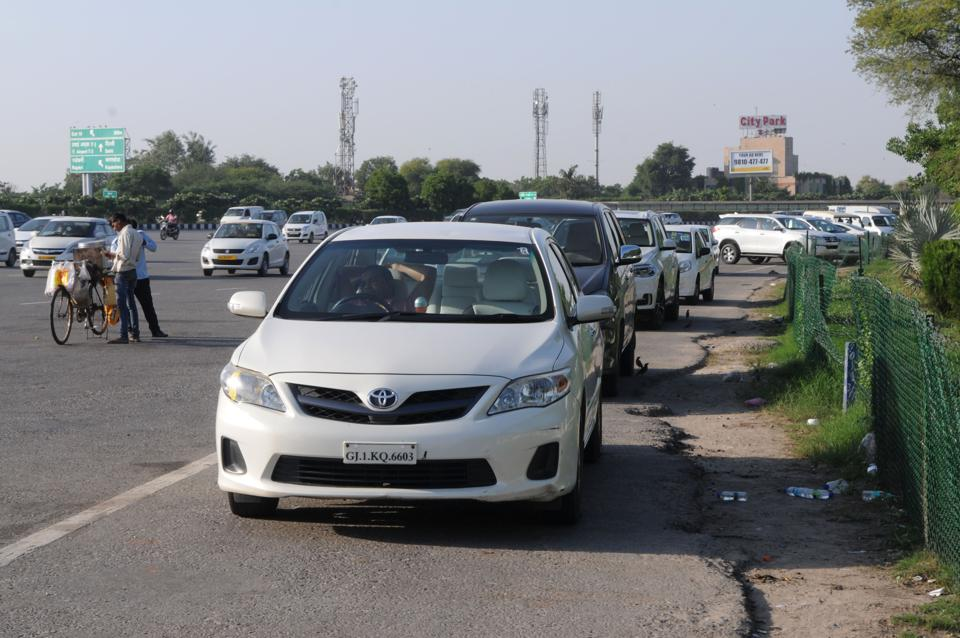Car: (212, 221, 622, 533), (197, 219, 294, 276)
